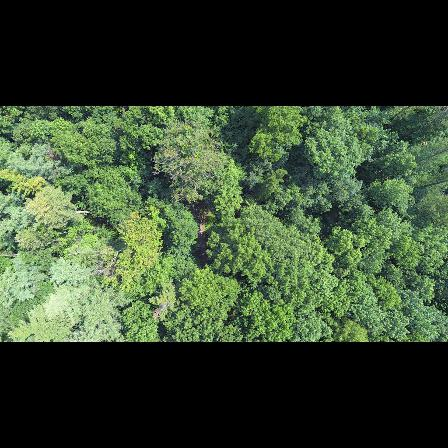Dead: (84, 245, 129, 280)
